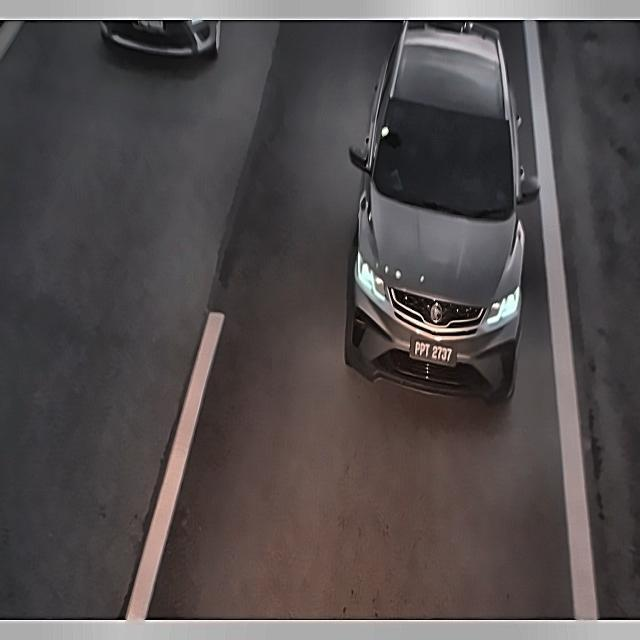car: (403, 324, 461, 375), (126, 19, 171, 36)
